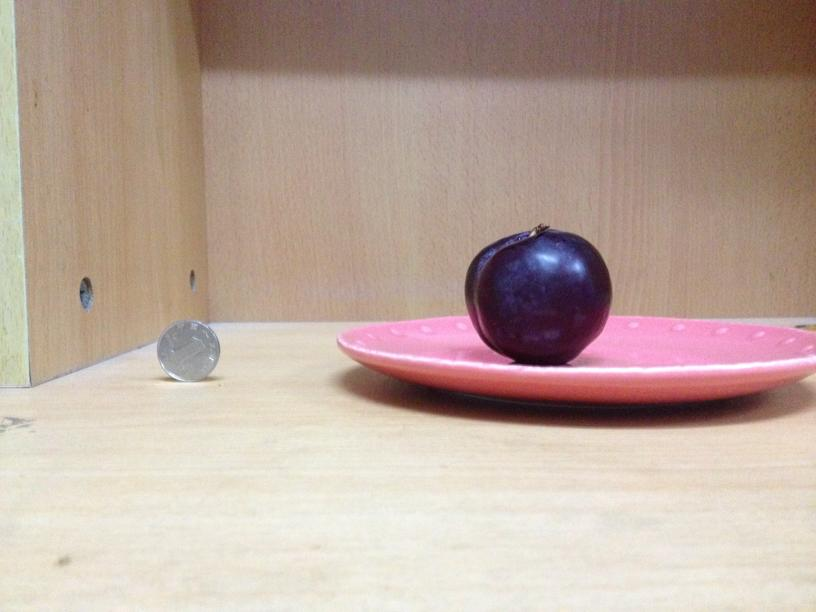coin: (155, 317, 222, 383)
plum: (462, 225, 610, 363)
